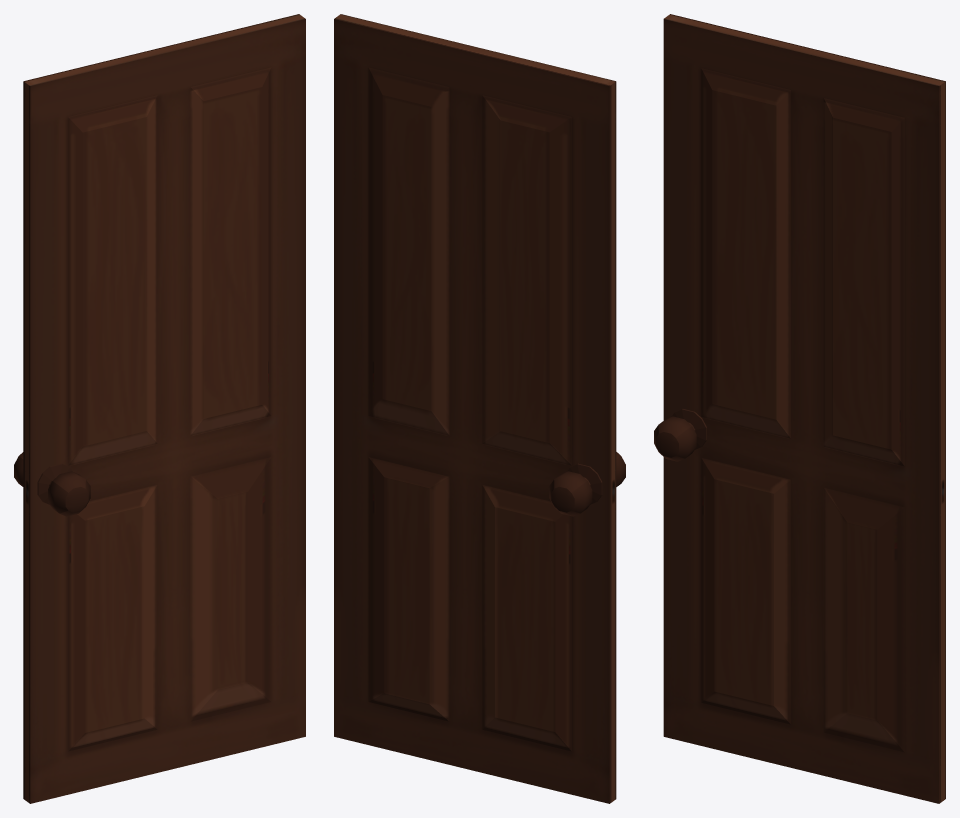
The model's file is CZ_Door-Ani01.fbx.
The picture shows the model from 3 angles, left to right: view 1: azimuth 30°, elevation 25°; view 2: azimuth 150°, elevation 25°; view 3: azimuth 330°, elevation 25°; orthographic projection.
Visible parts, largest first — view 1: pCube52; view 2: pCube52; view 3: pCube52.
Part boxes in pixels (box(x1,y1,x2,y2)): pCube52: box(14, 14, 305, 803); pCube52: box(334, 14, 625, 803); pCube52: box(654, 14, 945, 803).
Size of the model in its own units: 0.82 by 2.04 by 0.2652.
